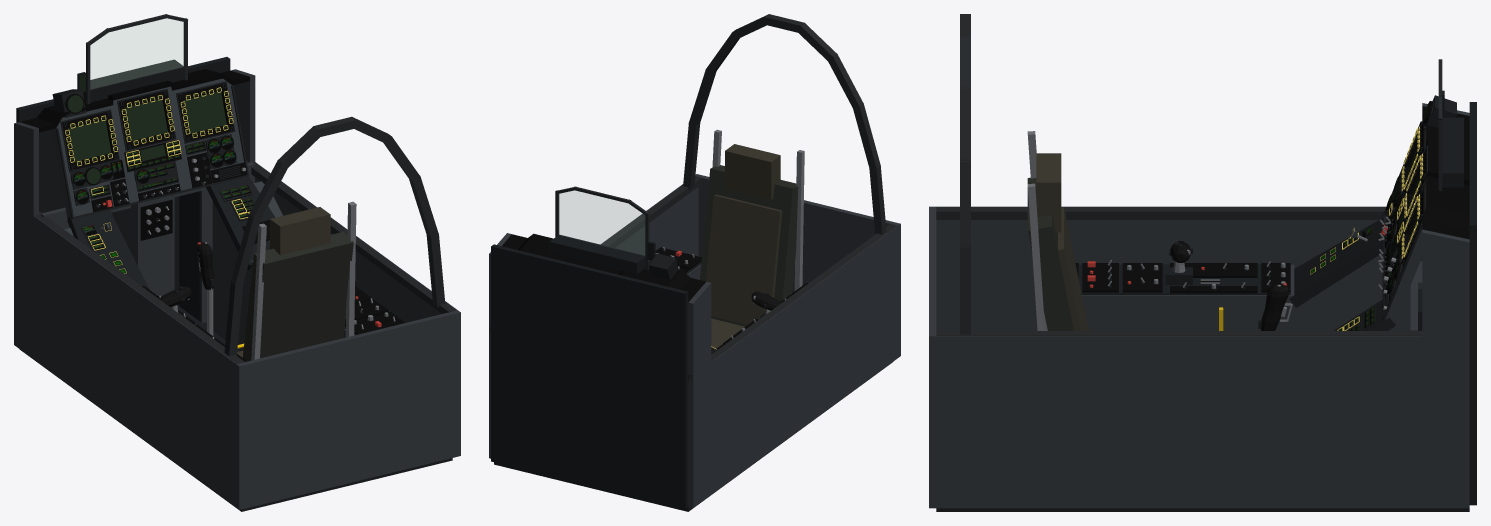
The model's file is cockpit_tornado.glb.
3 renders of one model, left to right at view 1: azimuth 30°, elevation 25°; view 2: azimuth 150°, elevation 25°; view 3: azimuth 270°, elevation 25°, orthographic. The views are drawn at different scales.
Visible parts, largest first — view 1: panel_grey.013, panel_grey.009, seat_95, hud_glass_69, panel_grey.017, panel_grey.011, panel_grey.008, dark, dark.010, cushion_97, frame.001, panel_grey.010 (+30 smaller); view 2: dark, panel_grey.009, cushion_96, panel_grey.013, hud_glass_69, seat_95, panel_grey.011, cushion_97, dark.260, panel_grey.010, black, frame (+12 smaller); view 3: panel_grey.011, panel_grey.009, panel_grey.005, frame, panel_grey.012, panel_grey.006, dark, dark.006, black, seat_95, panel_grey.013, frame.001 (+16 smaller).
Part boxes in pixels (bbox=[...]): panel_grey.013: bbox=[236, 310, 460, 509]; panel_grey.009: bbox=[14, 202, 236, 507]; seat_95: bbox=[242, 231, 353, 361]; hud_glass_69: bbox=[90, 18, 183, 88]; panel_grey.017: bbox=[111, 194, 174, 296]; panel_grey.011: bbox=[255, 162, 457, 322]; panel_grey.008: bbox=[212, 181, 282, 350]; dark: bbox=[16, 57, 230, 212]; dark.010: bbox=[179, 191, 200, 321]; cushion_97: bbox=[270, 207, 330, 255]; frame.001: bbox=[246, 161, 456, 313]; panel_grey.010: bbox=[14, 122, 38, 215]; dark: bbox=[491, 244, 688, 508]; panel_grey.009: bbox=[688, 225, 897, 507]; cushion_96: bbox=[706, 194, 782, 324]; panel_grey.013: bbox=[695, 174, 900, 357]; hud_glass_69: bbox=[559, 191, 644, 255]; seat_95: bbox=[700, 165, 798, 326]; panel_grey.011: bbox=[489, 184, 698, 458]; cushion_97: bbox=[725, 144, 780, 199]; dark.260: bbox=[549, 234, 645, 274]; panel_grey.010: bbox=[688, 281, 711, 375]; black: bbox=[518, 233, 690, 289]; frame: bbox=[688, 223, 896, 381]; panel_grey.011: bbox=[936, 336, 1469, 508]; panel_grey.009: bbox=[936, 206, 1393, 330]; panel_grey.005: bbox=[1082, 264, 1294, 330]; frame: bbox=[936, 207, 1385, 219]; panel_grey.012: bbox=[1422, 229, 1469, 336]; panel_grey.006: bbox=[1294, 254, 1382, 330]; dark: bbox=[1469, 102, 1476, 505]; dark.006: bbox=[1289, 218, 1382, 307]; black: bbox=[1422, 114, 1469, 229]; seat_95: bbox=[1027, 177, 1073, 330]; panel_grey.013: bbox=[929, 206, 936, 508]; frame.001: bbox=[936, 331, 1422, 335].
Bounding box in the file's own units: 0.84 × 1.28 × 1.5.
Materials: 28 (6 with a texture image).
